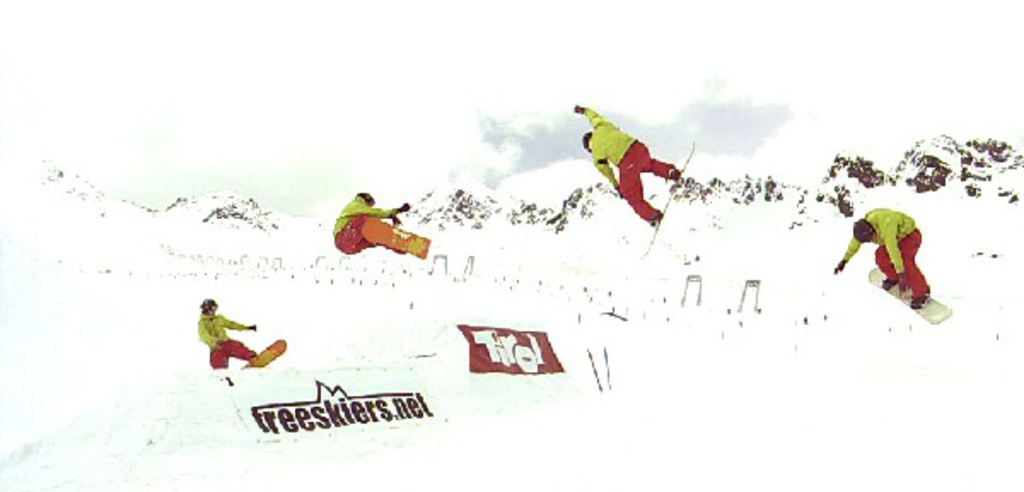Person: (573, 106, 682, 225), (833, 207, 933, 310), (332, 191, 410, 258), (195, 300, 259, 372)
